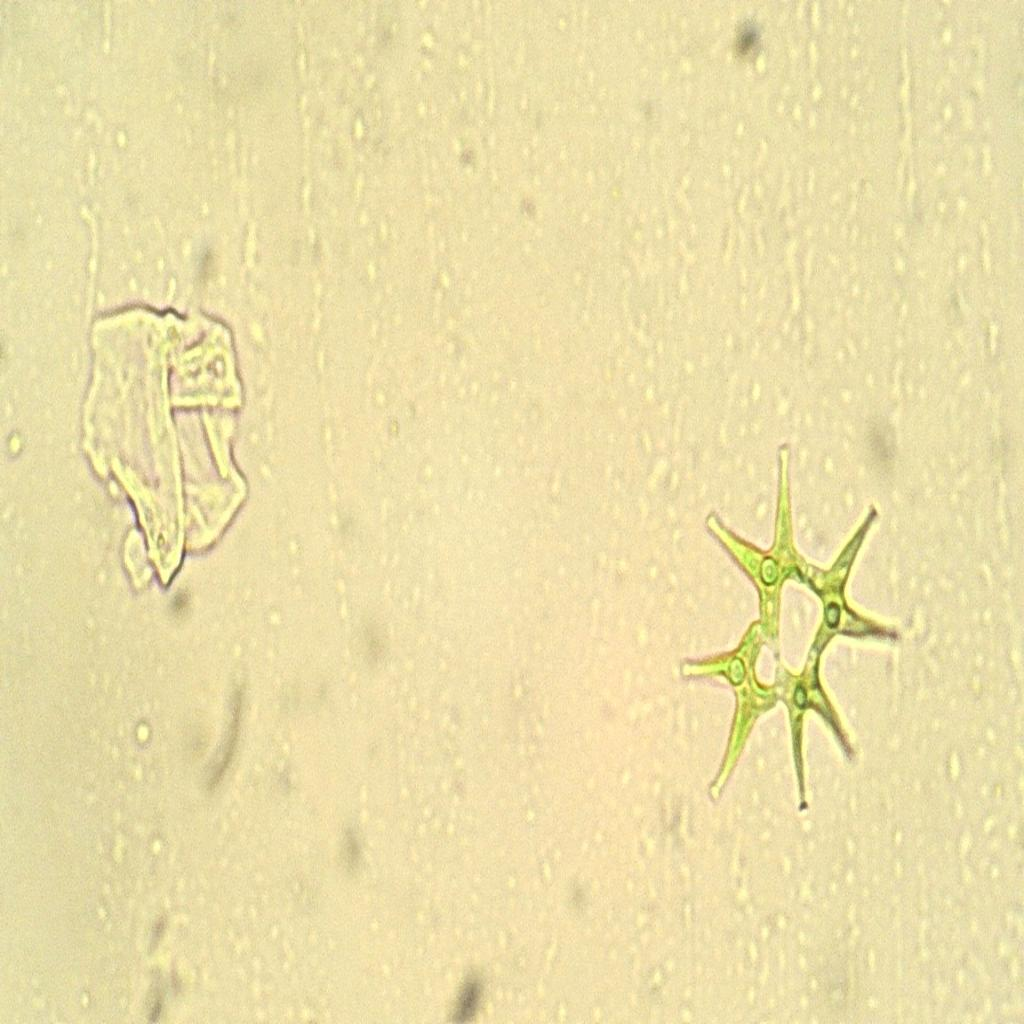Pediastrum_75FO: (663, 426, 918, 842)
